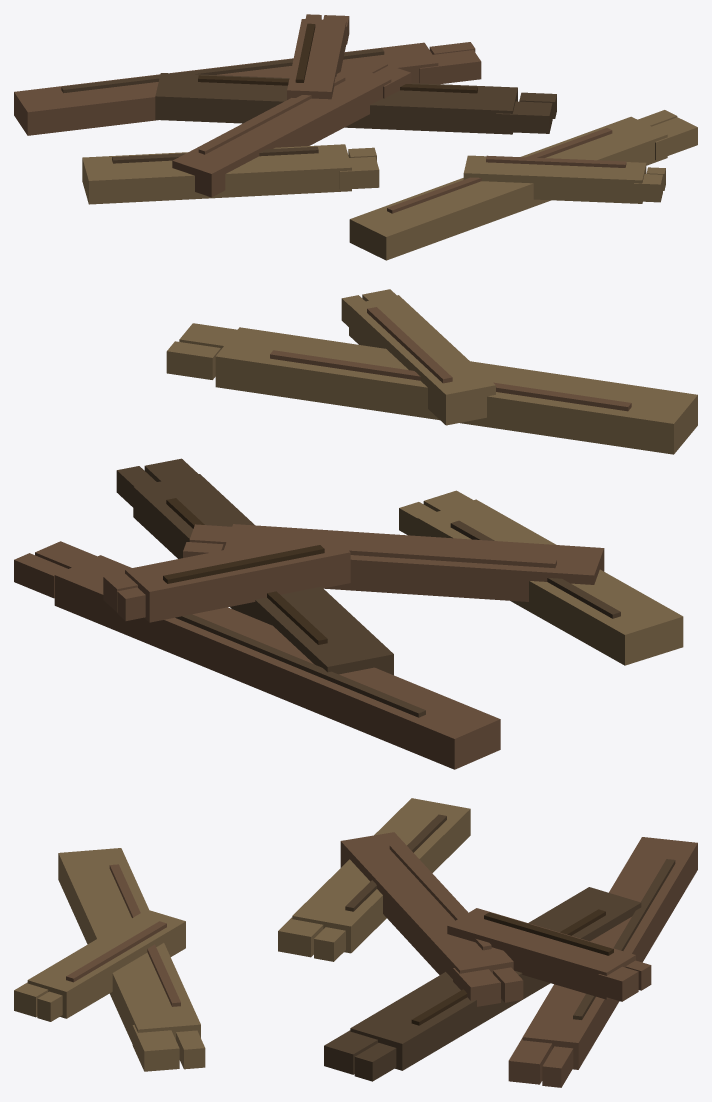
File: CMU3DDecorFloorScrapwoodWest.glb
3 renders of one model, top to bottom at view 1: azimuth 30°, elevation 25°; view 2: azimuth 150°, elevation 25°; view 3: azimuth 270°, elevation 25°, orthographic. The views are drawn at different scales.
Parts seen in each view (by area): view 1: plank 6 body, plank 2 body, plank 3 body, plank 1 body, plank 4 body, plank 7 body, plank 5 body, plank 1 long grain, plank 1 splintered end, plank 2 splintered end, plank 6 long grain, plank 6 splintered end (+10 smaller); view 2: plank 6 body, plank 1 body, plank 4 body, plank 3 body, plank 2 body, plank 5 body, plank 7 body, plank 6 long grain, plank 1 long grain, plank 4 long grain, plank 6 short fracture tooth, plank 5 long grain (+11 smaller); view 3: plank 6 body, plank 1 body, plank 2 body, plank 4 body, plank 3 body, plank 5 body, plank 7 body, plank 6 splintered end, plank 1 splintered end, plank 1 long grain, plank 2 splintered end, plank 4 splintered end (+15 smaller).
Boxes of the visible parts, bbox=[...] form: plank 6 body: bbox=[349, 116, 667, 260]; plank 2 body: bbox=[155, 73, 517, 134]; plank 3 body: bbox=[82, 144, 351, 204]; plank 1 body: bbox=[14, 42, 438, 135]; plank 4 body: bbox=[172, 66, 391, 197]; plank 7 body: bbox=[463, 155, 646, 203]; plank 5 body: bbox=[287, 19, 346, 99]; plank 1 long grain: bbox=[61, 48, 384, 93]; plank 1 splintered end: bbox=[419, 50, 481, 84]; plank 2 splintered end: bbox=[496, 101, 552, 133]; plank 6 long grain: bbox=[387, 128, 612, 213]; plank 6 splintered end: bbox=[652, 117, 697, 160]; plank 6 body: bbox=[215, 327, 697, 454]; plank 1 body: bbox=[54, 555, 500, 769]; plank 4 body: bbox=[224, 524, 604, 601]; plank 3 body: bbox=[417, 499, 683, 665]; plank 2 body: bbox=[133, 474, 393, 675]; plank 5 body: bbox=[125, 530, 350, 622]; plank 7 body: bbox=[349, 295, 495, 425]; plank 6 long grain: bbox=[270, 350, 631, 411]; plank 1 long grain: bbox=[175, 614, 425, 717]; plank 4 long grain: bbox=[267, 541, 556, 568]; plank 6 short fracture tooth: bbox=[166, 341, 220, 379]; plank 5 long grain: bbox=[163, 545, 324, 583]; plank 6 body: bbox=[58, 848, 200, 1043]; plank 1 body: bbox=[522, 837, 697, 1069]; plank 2 body: bbox=[350, 887, 641, 1070]; plank 4 body: bbox=[340, 832, 513, 978]; plank 3 body: bbox=[292, 798, 470, 953]; plank 5 body: bbox=[447, 908, 635, 999]; plank 7 body: bbox=[27, 909, 185, 1018]; plank 6 splintered end: bbox=[132, 1025, 179, 1071]; plank 1 splintered end: bbox=[508, 1038, 552, 1084]; plank 1 long grain: bbox=[573, 859, 675, 1019]; plank 2 splintered end: bbox=[324, 1030, 377, 1074]; plank 4 splintered end: bbox=[453, 968, 500, 1006].
Size of the model in its own units: 0.6349 by 0.087 by 0.6671.
